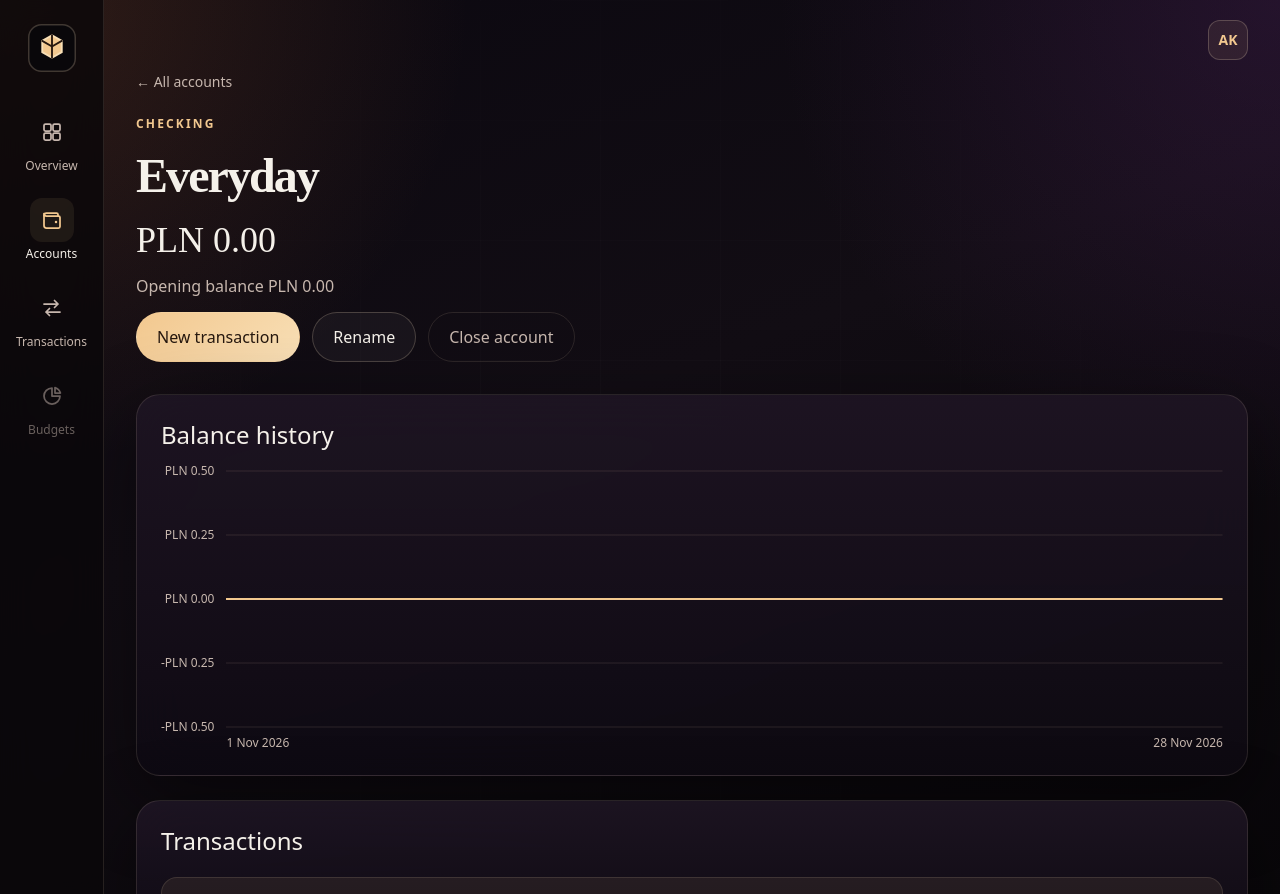
Test: transactions of an account › explains that a closed account takes no new transactions
Click the button "New transaction" at (218, 337), box [136,312,300,362]
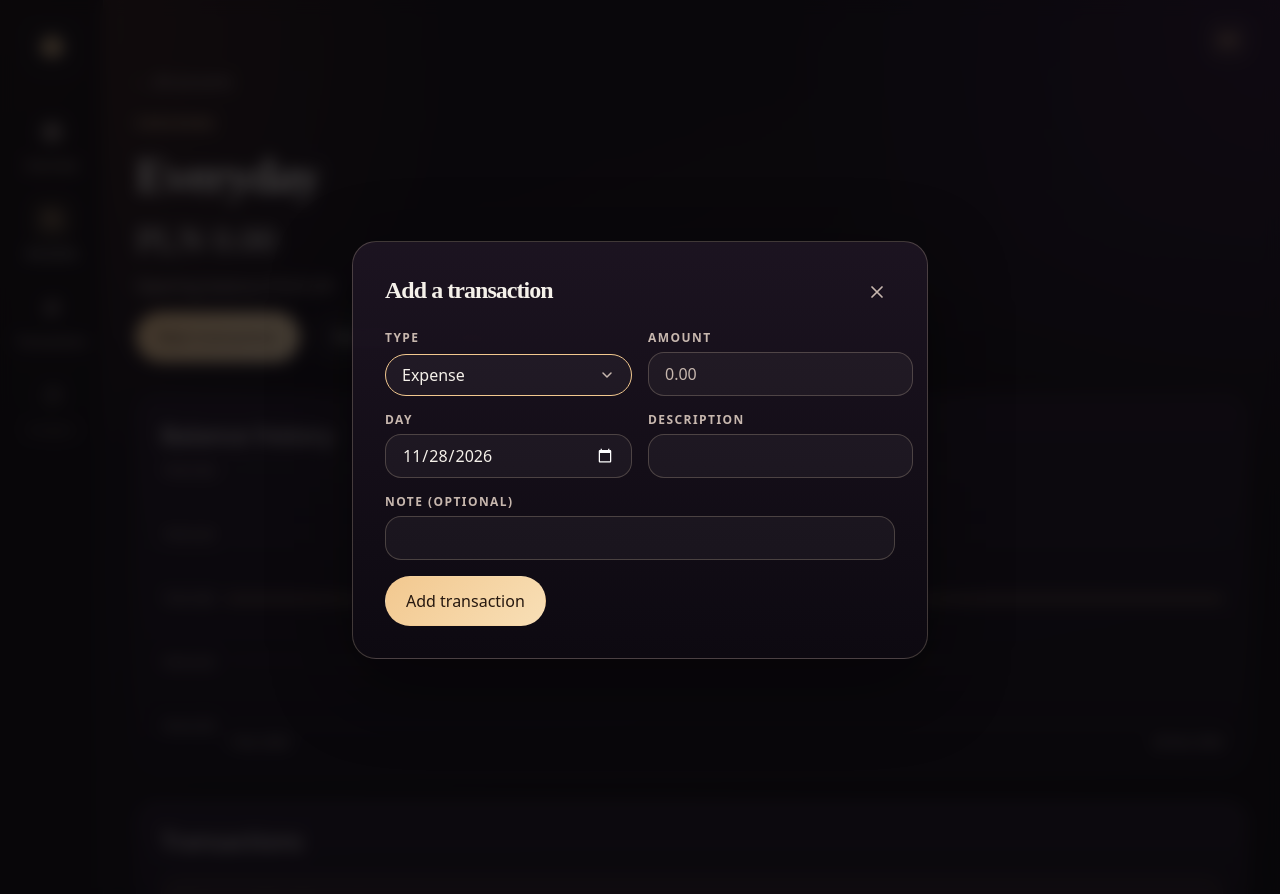
Type "15" into the field labelled "Amount" at (780, 374), box [648,352,913,396]
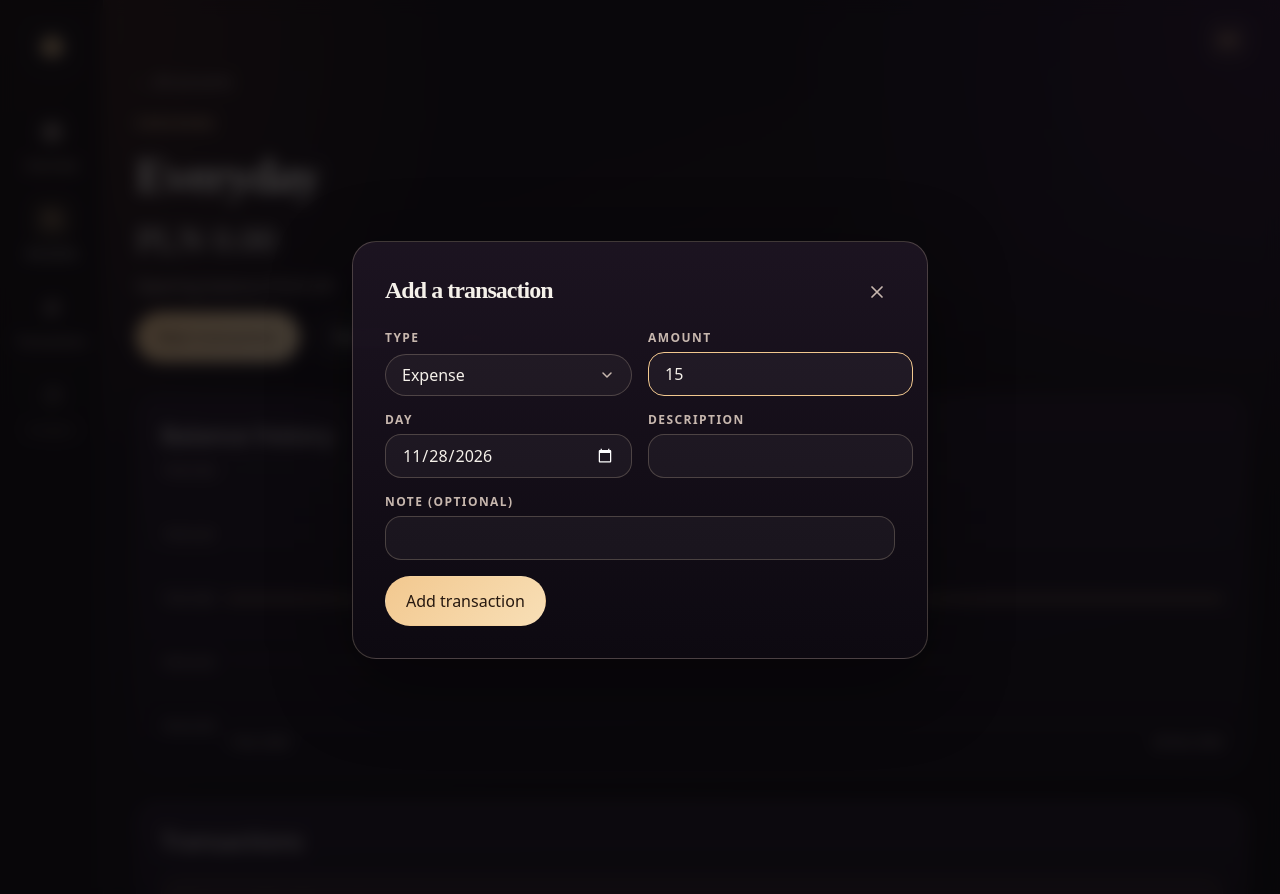
Type "Taxi" into the field labelled "Description" at (780, 456), box [648,434,913,478]
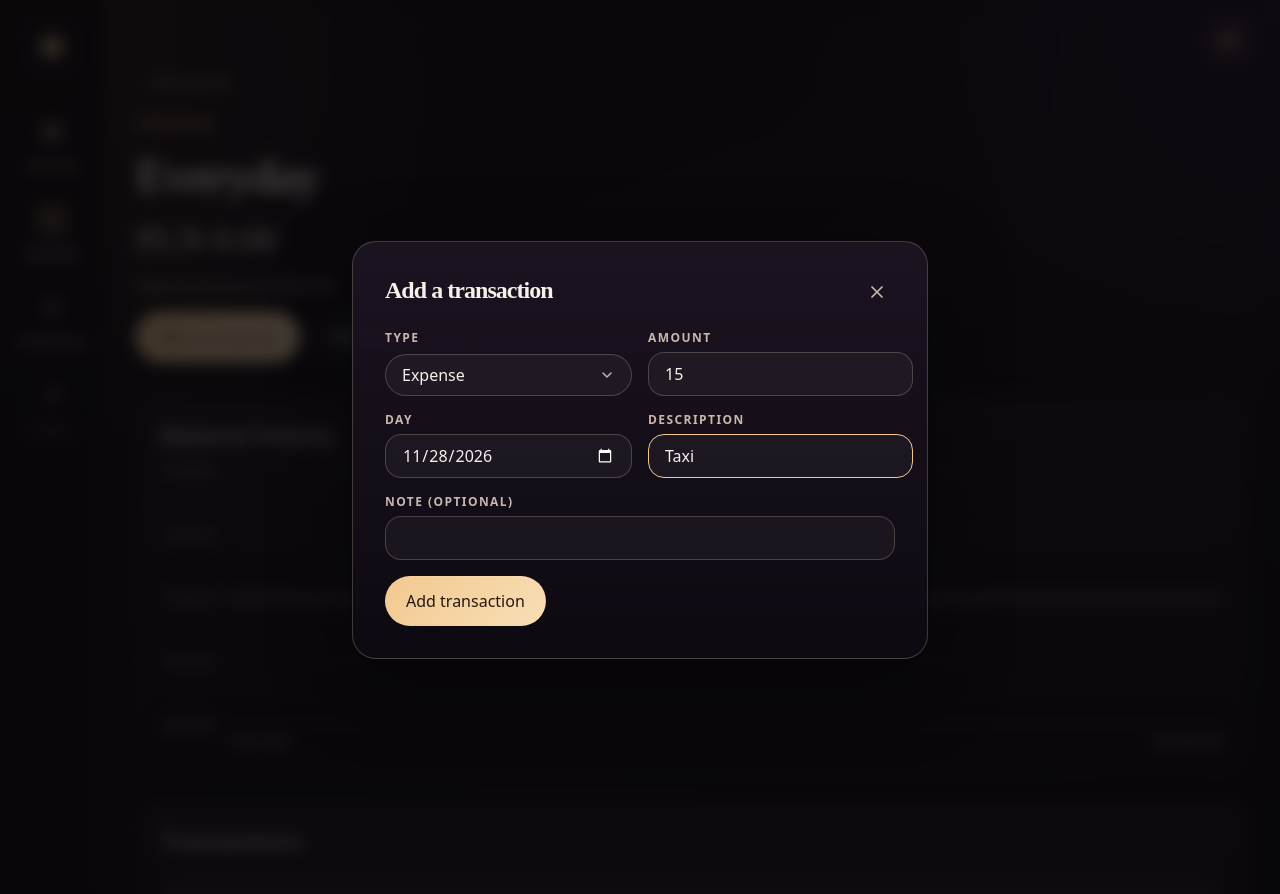
Click the button "Add transaction" at (465, 601), box [385,576,546,626]
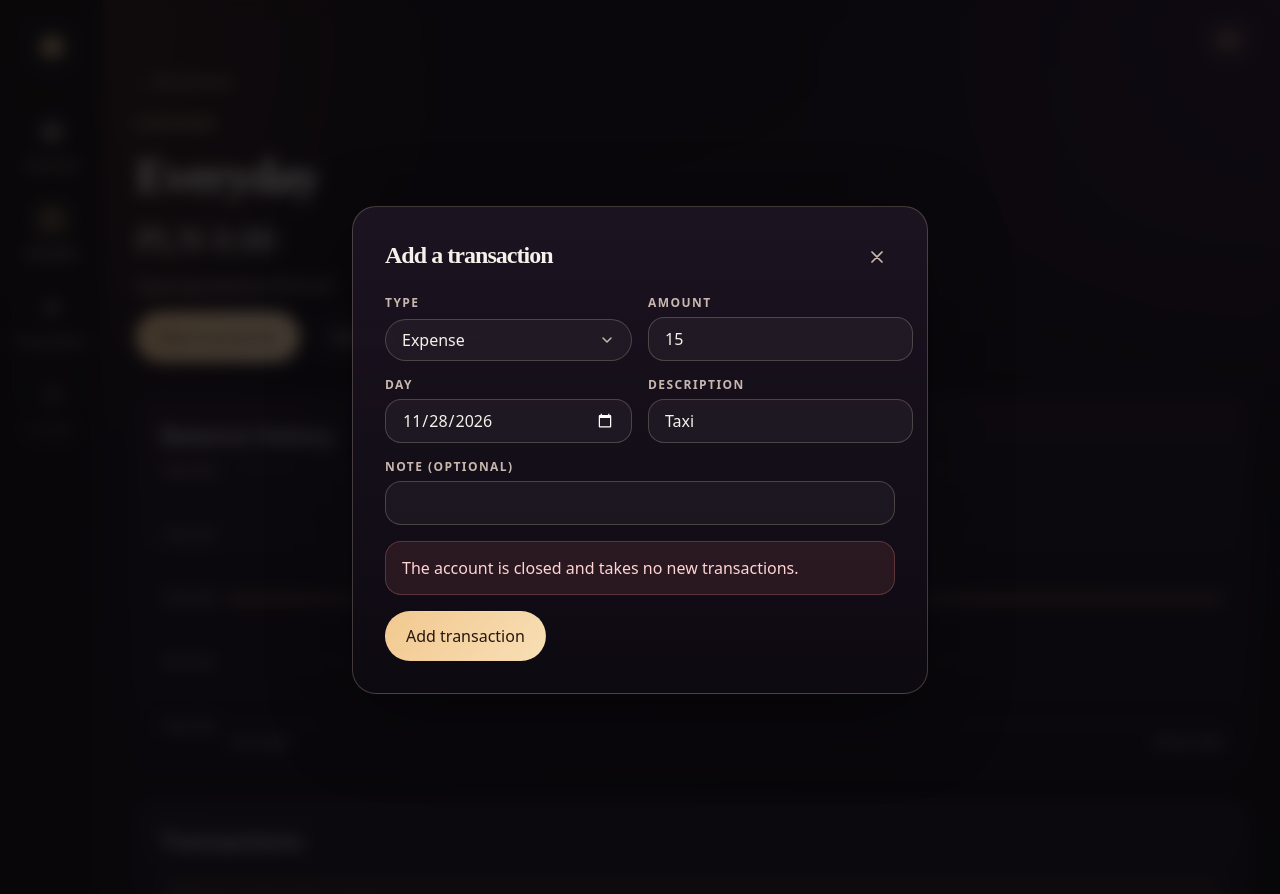
expect the message shows "The account is closed": met, box [402,557,799,579]
